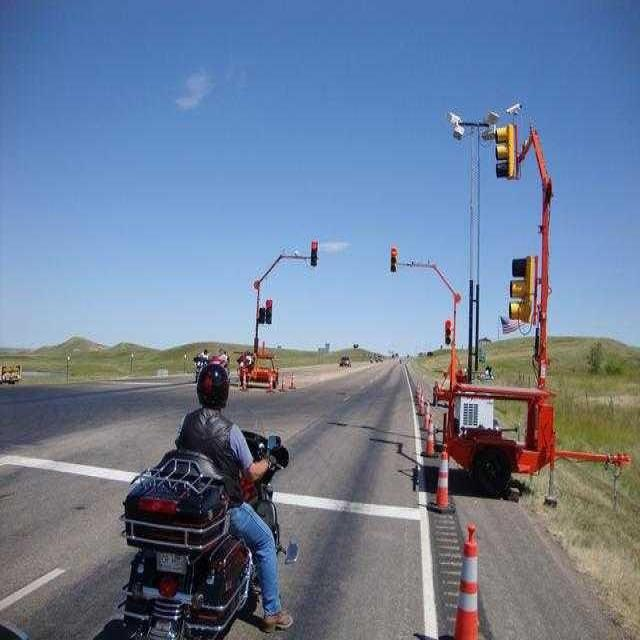Traffic Light -Red-: (263, 297, 274, 328), (443, 319, 452, 344), (310, 240, 318, 268), (390, 247, 397, 273)
